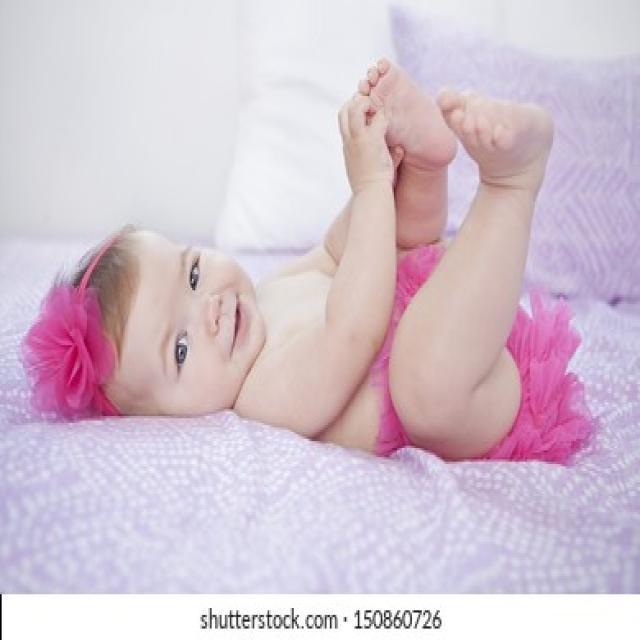non-dog: (30, 55, 592, 465)
